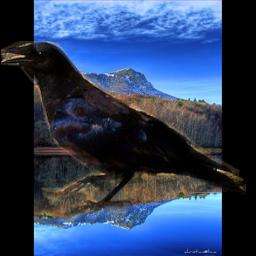Crow: (1, 41, 246, 211)
